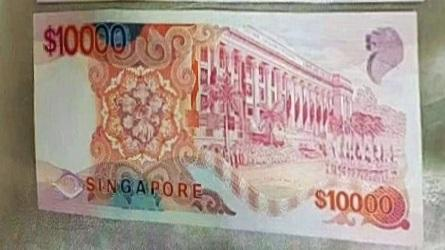10000SingaporeDollar: (37, 14, 416, 230)
